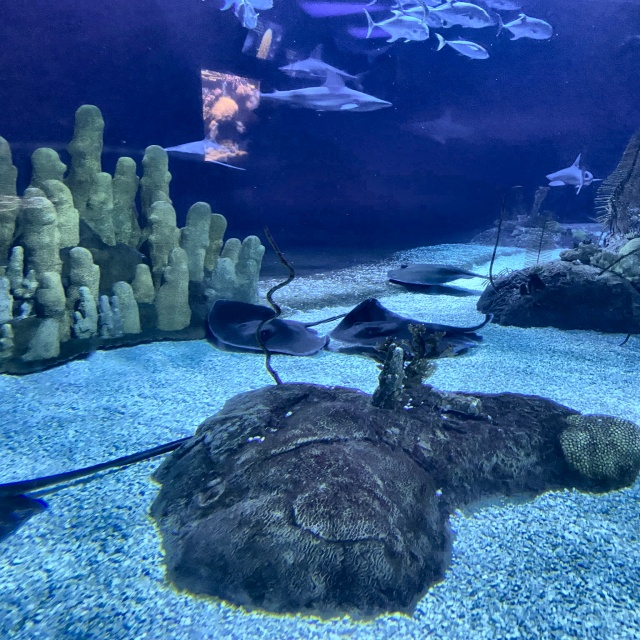fish: (363, 15, 434, 43), (423, 6, 494, 31), (383, 6, 450, 32), (501, 17, 556, 42), (450, 40, 492, 60), (478, 0, 526, 17), (231, 6, 263, 30)
shark: (256, 77, 393, 115), (154, 136, 256, 168), (411, 116, 475, 144), (548, 162, 602, 194)
stingray: (330, 302, 482, 365), (200, 300, 327, 359), (0, 480, 60, 546), (384, 258, 475, 294)
